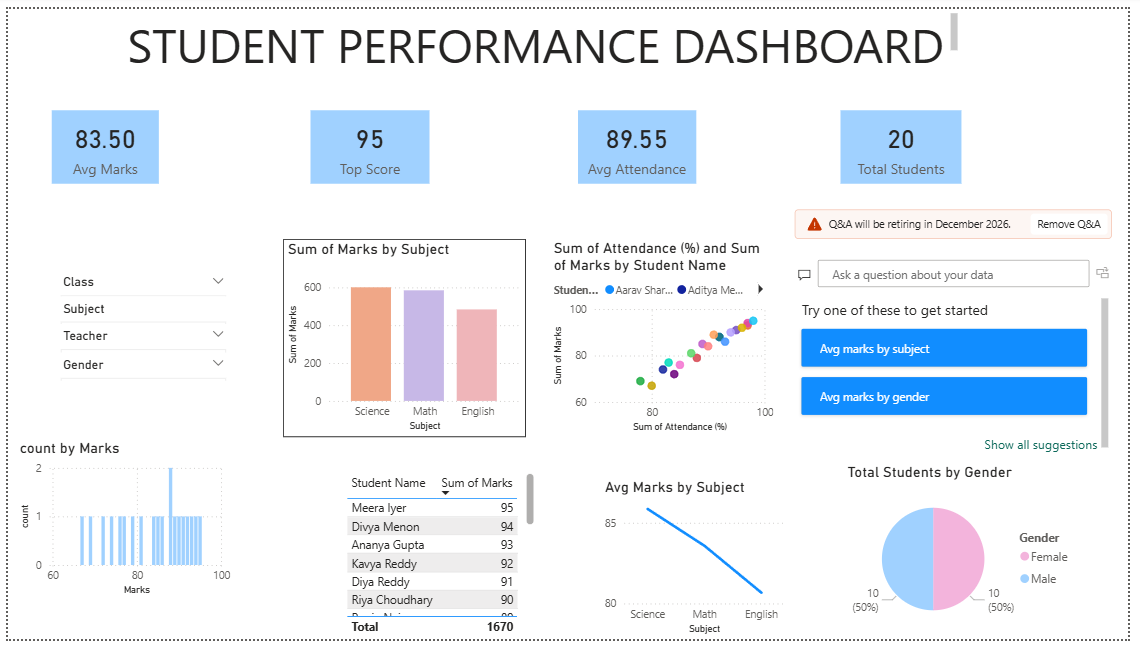

The dashboard page shown, as its layout file describes it:
{"tool":"powerbi","page":{"name":"Page 1","canvas":[1280,720],"ordinal":0},"visuals":[{"type":"card","fields":{"Values":["Student Data.Avg Marks"]},"box":[50,115,122.5,83.8],"z":0},{"type":"card","fields":{"Values":["Student Data.Top Score"]},"box":[346.2,116.2,136.2,83.8],"z":1000},{"type":"card","fields":{"Values":["Student Data.Avg Attendance"]},"box":[651.2,115,135,83.8],"z":2000},{"type":"card","fields":{"Values":["Student Data.Total Students"]},"box":[951.2,115,138.8,83.8],"z":3000},{"type":"clusteredColumnChart","fields":{"Category":["Student Data.Subject"],"Y":["Sum(Student Data.Marks)"]},"box":[313.8,262.5,277.5,226.2],"z":4000},{"type":"scatterChart","fields":{"X":["Sum(Student Data.Attendance (%))"],"Y":["Sum(Student Data.Marks)"],"Series":["Student Data.Student Name"]},"box":[618.8,262.5,261.2,226.2],"z":5000},{"type":"clusteredColumnChart","fields":{"Category":["Student Data.Marks"],"Y":["Student Data.count"]},"box":[8,491,251,184],"z":6000},{"type":"pieChart","fields":{"Category":["Student Data.Gender"],"Y":["Student Data.Total Students"]},"box":[953.8,518.8,272.5,201.2],"z":7000},{"type":"textbox","box":[122.5,0,967.5,68.8],"z":8000},{"type":"slicer","fields":{"Values":["Student Data.Class"]},"box":[50,298,209,30],"z":9000},{"type":"slicer","fields":{"Values":["Student Data.Subject"]},"box":[50,328,209,32],"z":10000},{"type":"slicer","fields":{"Values":["Student Data.Teacher"]},"box":[50,360,209,33],"z":11000},{"type":"slicer","fields":{"Values":["Student Data.Gender"]},"box":[50,393,209,32],"z":12000},{"type":"tableEx","fields":{"Values":["Student Data.Student Name","Sum(Student Data.Marks)"]},"box":[381.2,526.1,224.6,194.2],"z":13000},{"type":"lineChart","fields":{"Category":["Student Data.Subject"],"Y":["Student Data.Avg Marks"]},"box":[677.5,536.2,216.2,183.8],"z":14000},{"type":"textbox","box":[1090,49,150,150],"z":15000},{"type":"qnaVisual","box":[894,224,372,294],"z":16000}]}

Visuals, with their boxes in screenshot pixels (x1, y1, x2, y2), scaled from the page's 1280x720 canvas onto the 1140x649 screenshot:
card - Student Data.Avg Marks: [left=45, top=104, right=154, bottom=179]
card - Student Data.Top Score: [left=308, top=105, right=430, bottom=180]
card - Student Data.Avg Attendance: [left=580, top=104, right=700, bottom=179]
card - Student Data.Total Students: [left=847, top=104, right=971, bottom=179]
clusteredColumnChart - Student Data.Subject x Sum(Student Data.Marks): [left=279, top=237, right=527, bottom=441]
scatterChart - Sum(Student Data.Attendance (%)) x Sum(Student Data.Marks): [left=551, top=237, right=784, bottom=441]
clusteredColumnChart - Student Data.Marks x Student Data.count: [left=7, top=443, right=231, bottom=608]
pieChart - Student Data.Gender x Student Data.Total Students: [left=849, top=468, right=1092, bottom=648]
textbox: [left=109, top=0, right=971, bottom=62]
slicer - Student Data.Class: [left=45, top=269, right=231, bottom=296]
slicer - Student Data.Subject: [left=45, top=296, right=231, bottom=324]
slicer - Student Data.Teacher: [left=45, top=324, right=231, bottom=354]
slicer - Student Data.Gender: [left=45, top=354, right=231, bottom=383]
tableEx - Student Data.Student Name x Sum(Student Data.Marks): [left=340, top=474, right=540, bottom=648]
lineChart - Student Data.Subject x Student Data.Avg Marks: [left=603, top=483, right=796, bottom=648]
textbox: [left=971, top=44, right=1104, bottom=179]
qnaVisual: [left=796, top=202, right=1128, bottom=467]
